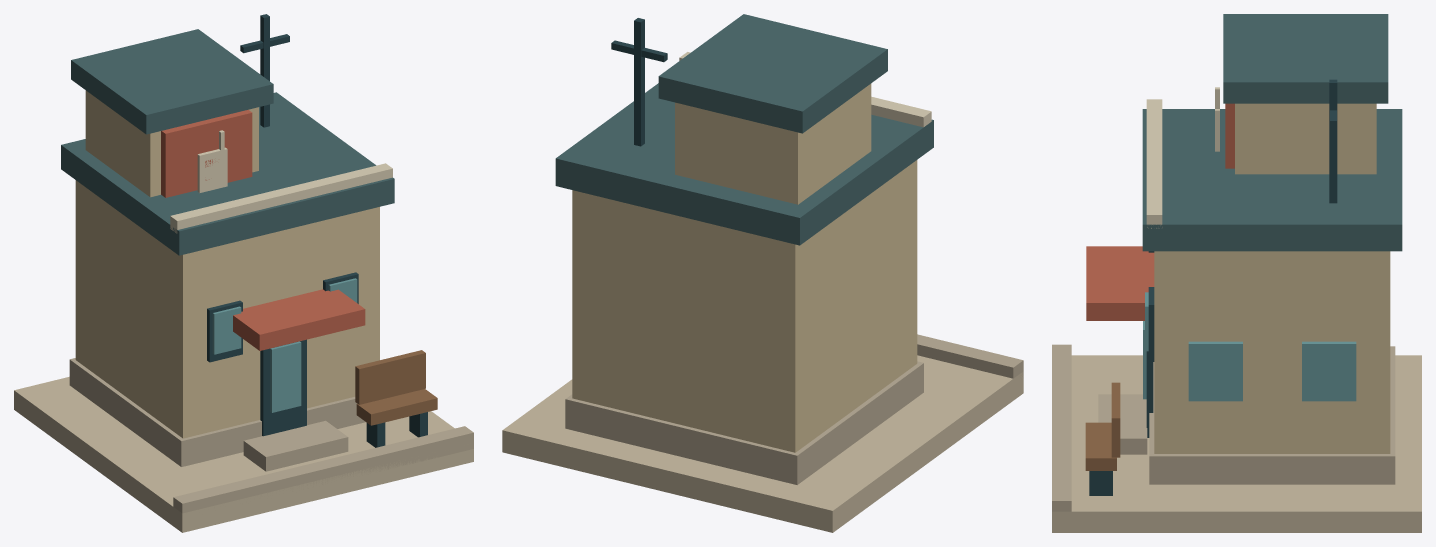
The model's file is police-station-complete.glb.
3 views of the same model, side by side, from view 1: azimuth 30°, elevation 25°; view 2: azimuth 150°, elevation 25°; view 3: azimuth 270°, elevation 25° (orthographic). The views are drawn at different scales.
Visible parts, largest first — view 1: police-station; view 2: police-station; view 3: police-station.
Part boxes in pixels (left/top/right/bottom): police-station: left=14, top=14, right=473, bottom=532; police-station: left=502, top=14, right=1023, bottom=532; police-station: left=1052, top=14, right=1421, bottom=532.
Bounding box in the file's own units: 1.88 × 2.29 × 1.88.
